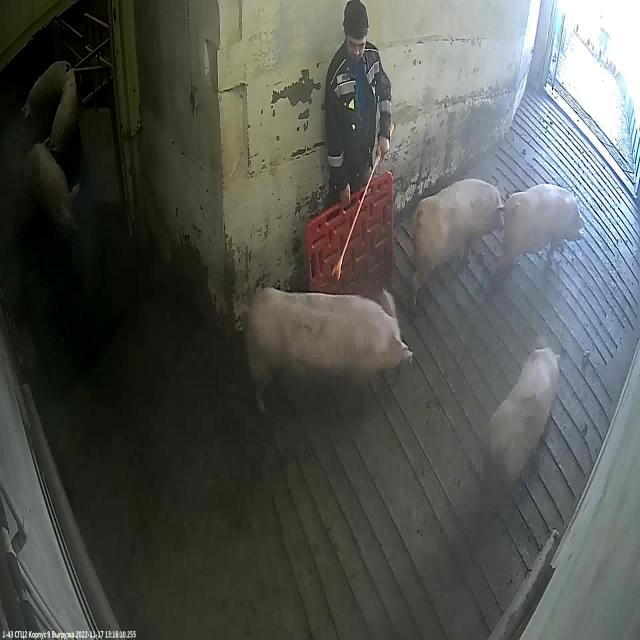pig: (248, 288, 412, 410), (486, 348, 560, 512), (415, 180, 506, 297), (499, 185, 584, 275), (28, 143, 80, 229), (44, 70, 78, 166), (24, 61, 70, 119)
